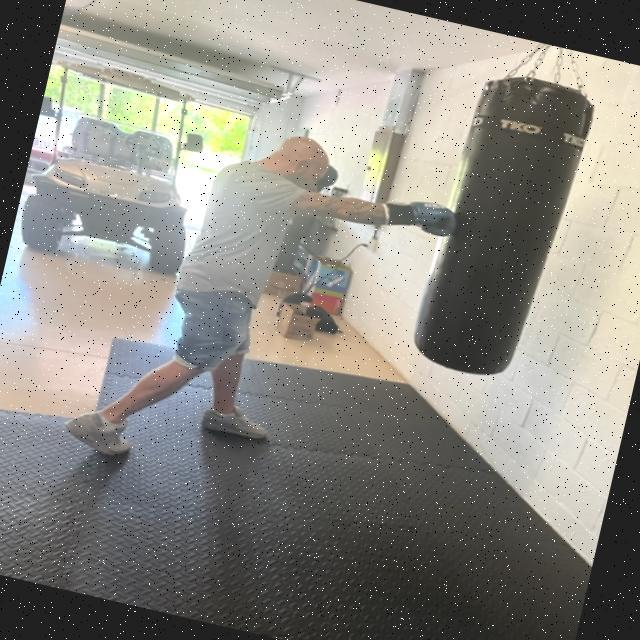punch: (205, 112, 510, 268)
